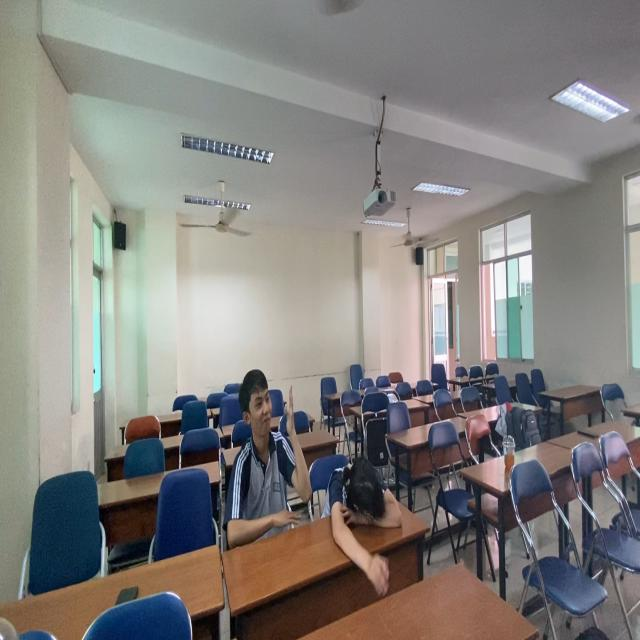raise_hand: (232, 370, 310, 549)
sleep: (323, 446, 406, 575)
